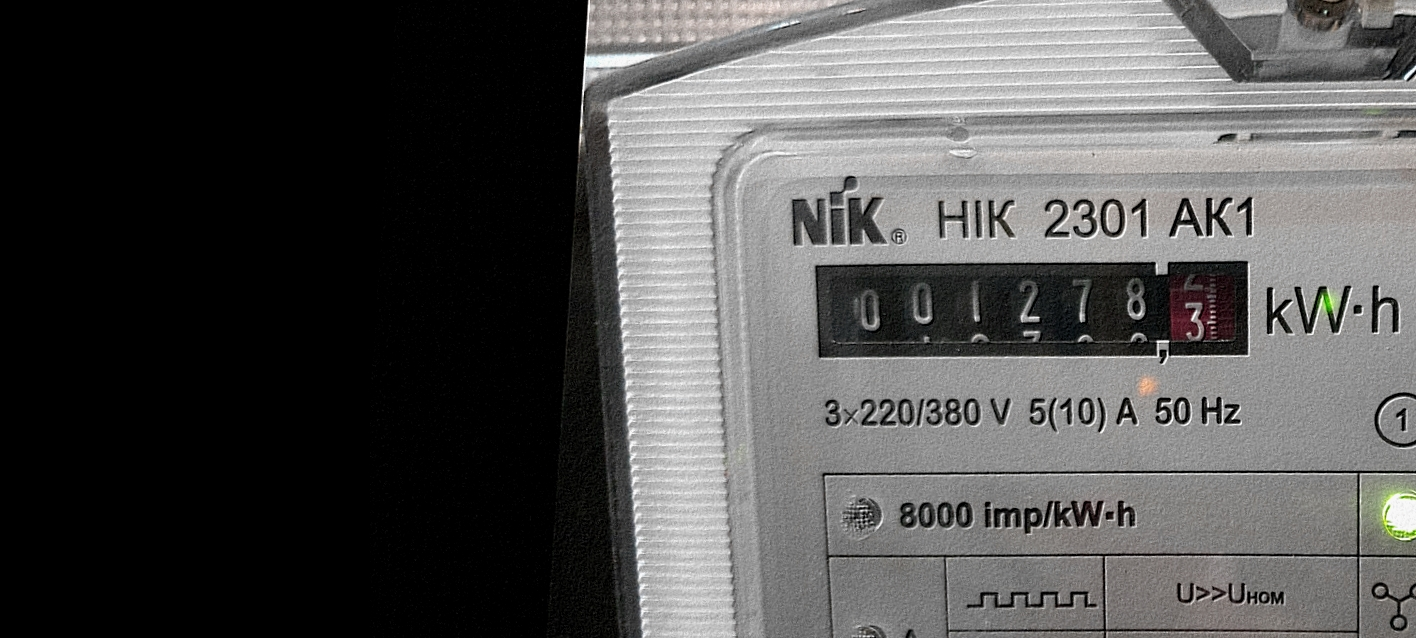0: (857, 285, 887, 334), (909, 279, 938, 327)
1: (967, 276, 988, 324)
2: (1016, 278, 1046, 326), (1182, 272, 1207, 292)
3: (1181, 299, 1210, 344)
7: (1069, 276, 1094, 324)
8: (1124, 276, 1151, 321)
screen: (796, 220, 1273, 398)
